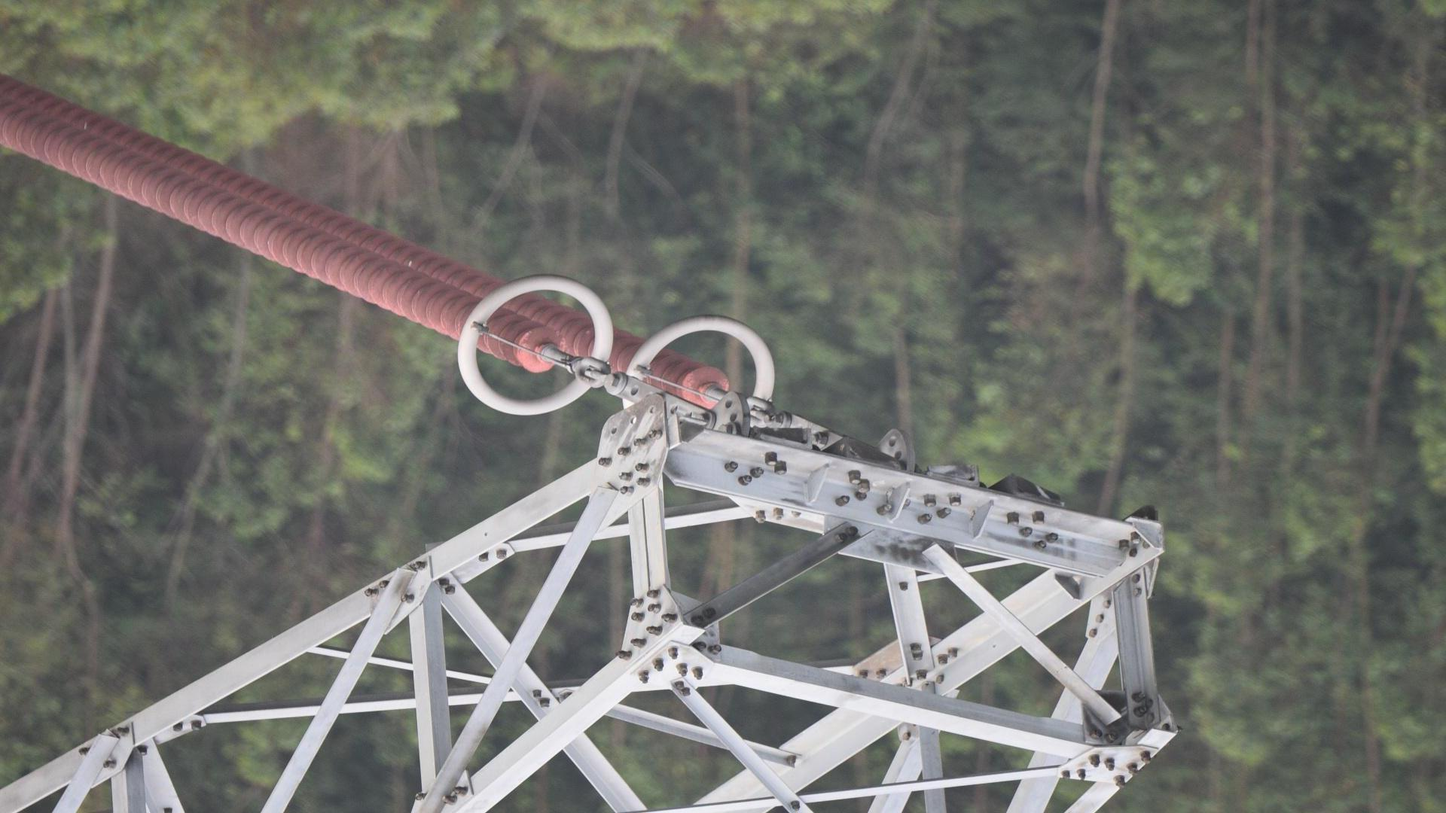insulator: (1, 60, 736, 413)
